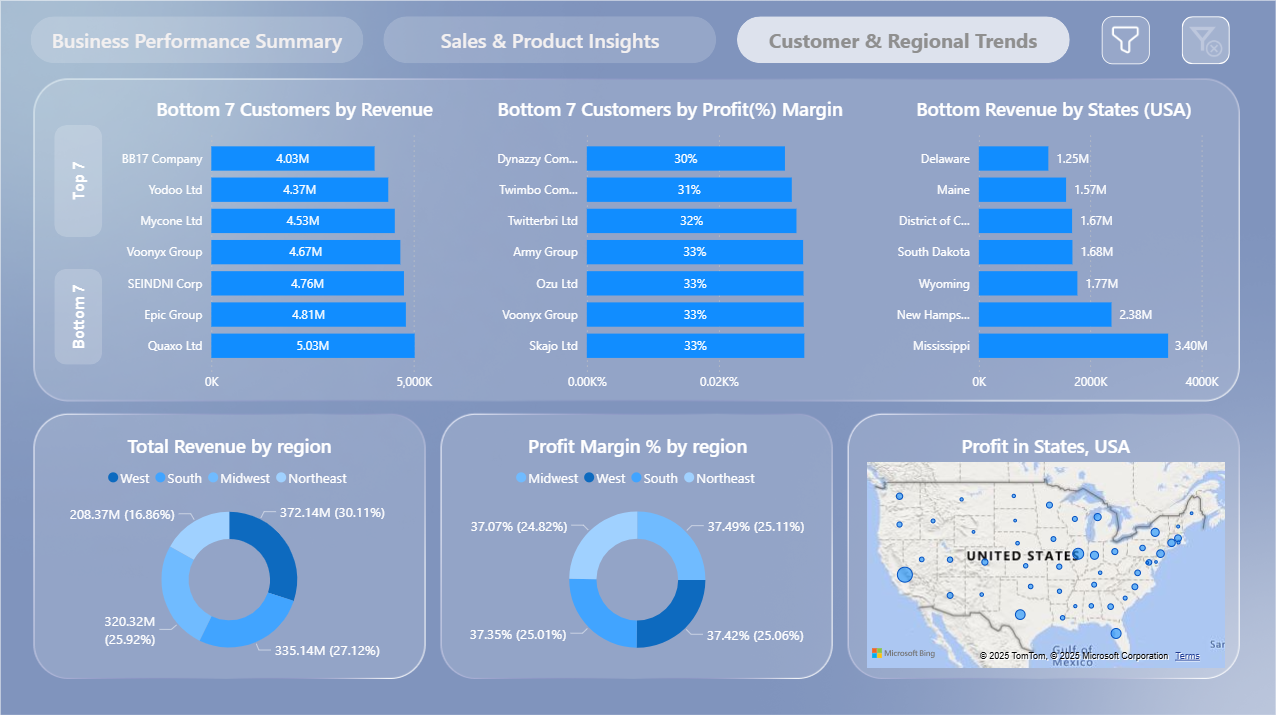

What the dashboard file says about the page in this screenshot:
{"tool":"powerbi","page":{"name":"Customer & Regional Trends","canvas":[1280,720],"ordinal":2},"visuals":[{"type":"pageNavigator","box":[32,16,1040,48],"z":0},{"type":"barChart","title":"Top 7 Customers by Revenue","fields":{"Category":["Customer Summary.customer_names"],"Y":["Sum(Customer Summary.Total Revenue)"]},"box":[128,96,368,304],"z":0,"group":"g1"},{"type":"barChart","title":"Total Revenue by States, USA","fields":{"Category":["EDA_MASTER_DATA.state_name"],"Y":["Query1.Total Revenue"]},"box":[896,96,352,304],"z":1000,"group":"g1"},{"type":"actionButton","box":[55.7,124.6,48,112],"z":1000},{"type":"barChart","title":"Top 7 Customers by Profit(%) Margin ","fields":{"Y":["Query1.Profit Margin %"],"Category":["EDA_MASTER_DATA.customer_names"]},"box":[496,96,384,304],"z":2000,"group":"g1"},{"type":"actionButton","box":[55.7,268.6,48,96],"z":3000},{"type":"group","id":"g1","title":"Top","box":[128,96,1120,304],"z":4000},{"type":"donutChart","fields":{"Y":["Query1.Total Revenue"],"Category":["EDA_MASTER_DATA.region"]},"box":[48,432,368,240],"z":5000},{"type":"donutChart","fields":{"Category":["EDA_MASTER_DATA.region"],"Y":["Query1.Profit Margin %"]},"box":[448,432,384,240],"z":6000},{"type":"map","title":"Profit in States, USA ","fields":{"Category":["EDA_MASTER_DATA.state_name"],"Size":["Sum(EDA_MASTER_DATA.profit)"]},"box":[864,432,368,240],"z":7000},{"type":"image","box":[1104,16,48,48],"z":8000},{"type":"actionButton","box":[1184,16,48,48],"z":10000}]}

Visuals, with their boxes in screenshot pixels (x1, y1, x2, y2), scaled from the page's 1280x720 canvas onto the 1276x715 screenshot:
pageNavigator: 32/16/1069/64
"Top 7 Customers by Revenue" barChart: 128/95/494/397
"Total Revenue by States, USA" barChart: 893/95/1244/397
actionButton: 56/124/103/235
"Top 7 Customers by Profit(%) Margin " barChart: 494/95/877/397
actionButton: 56/267/103/362
"Top" group: 128/95/1244/397
donutChart - Query1.Total Revenue x EDA_MASTER_DATA.region: 48/429/415/667
donutChart - EDA_MASTER_DATA.region x Query1.Profit Margin %: 447/429/829/667
"Profit in States, USA " map: 861/429/1228/667
image: 1101/16/1148/64
actionButton: 1180/16/1228/64
